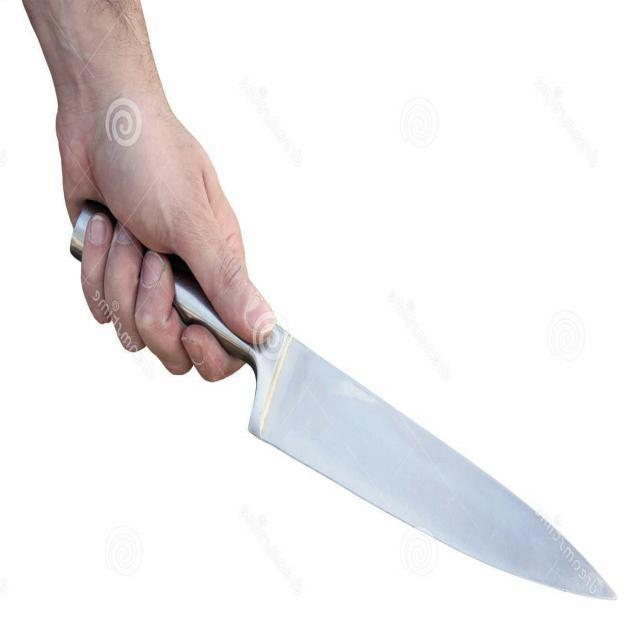Knife: (170, 256, 614, 598)
Knife_Handle: (36, 90, 618, 621)
